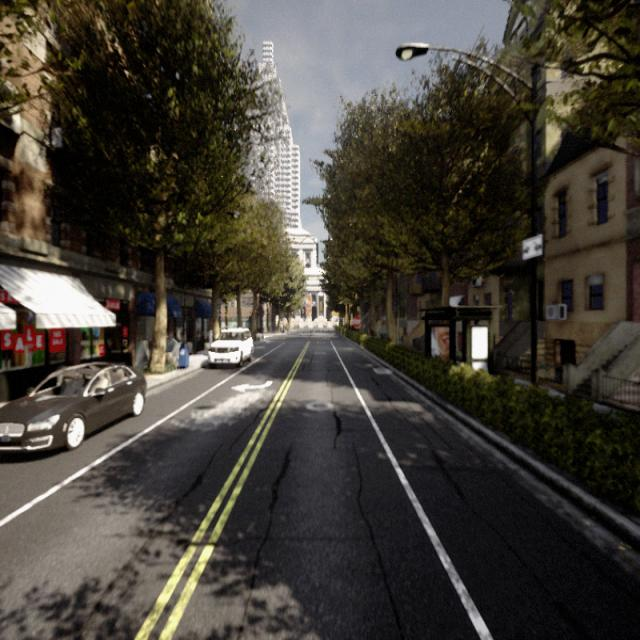stop sign: (348, 311, 361, 329)
